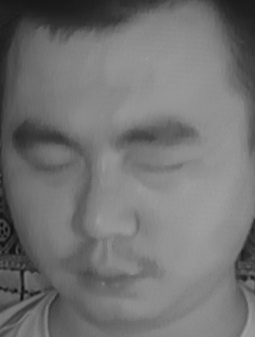blink: (134, 148, 196, 191), (25, 146, 74, 185)
mouth: (63, 248, 148, 303)
